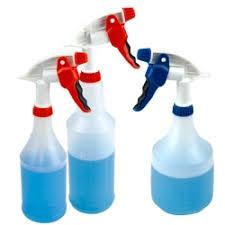Container for household chemicals: (60, 13, 137, 217), (139, 38, 216, 220), (15, 56, 72, 224)
